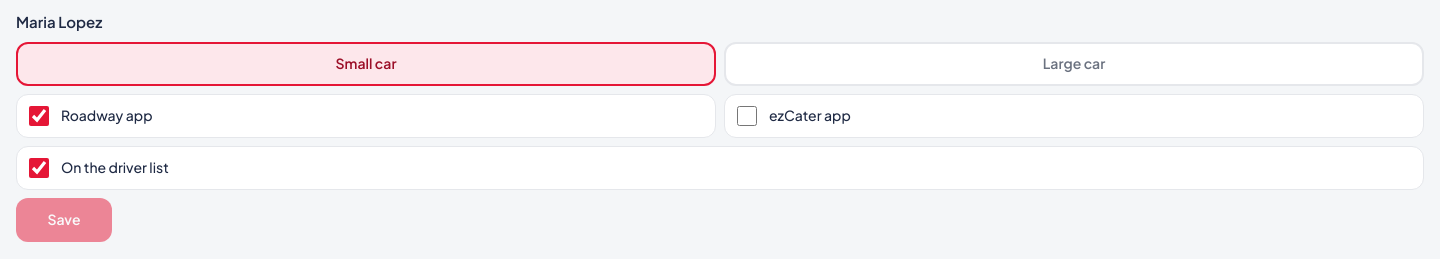
it: RosterDriverRow › shows a failed save and does not refresh
The width and height of the screenshot is (1440, 259).
What coordinates should you click on to do the following:
click the radio button labelled "Large car"
I would click on:
 (1074, 64)
Its box is x1=724 y1=42 x2=1424 y2=86.
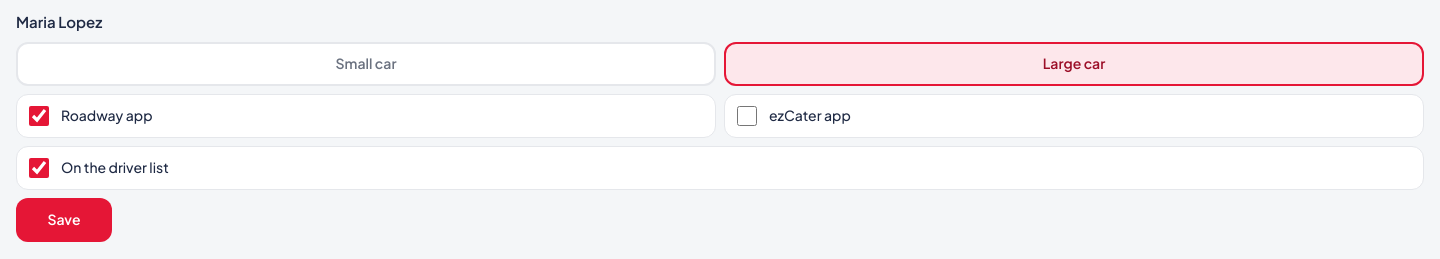
What coordinates should you click on to do the following:
click the button "Save"
I would click on:
 (64, 220)
Its box is x1=16 y1=198 x2=112 y2=242.
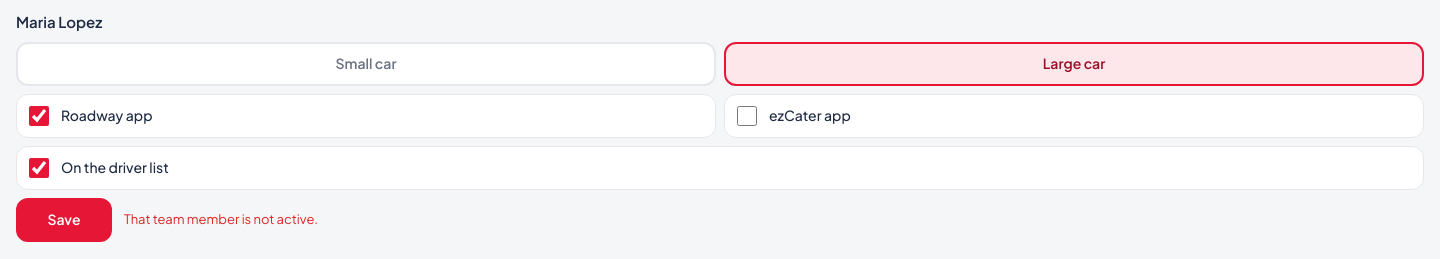
expect the message reads "That team member is not active.": met, box x1=124 y1=211 x2=318 y2=227
